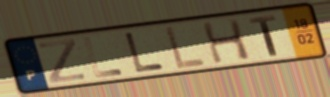H: (199, 17, 253, 66)
L: (163, 24, 209, 71), (122, 31, 168, 74), (82, 36, 126, 80)
T: (246, 13, 279, 58)
Z: (37, 37, 88, 85)
